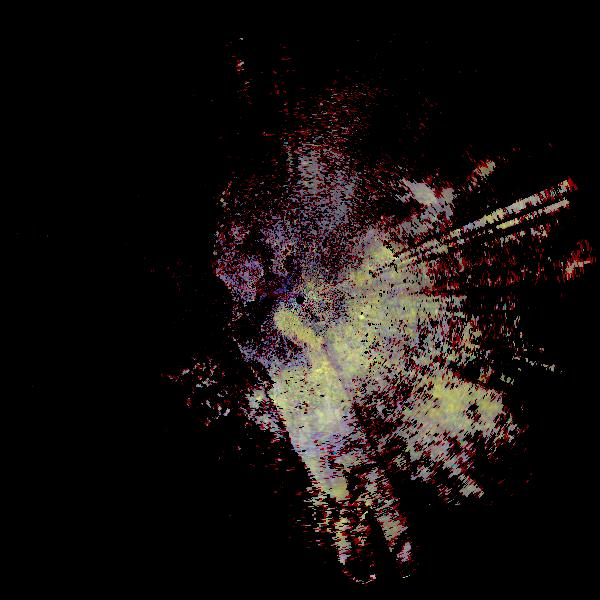roost: (214, 303, 361, 450)
